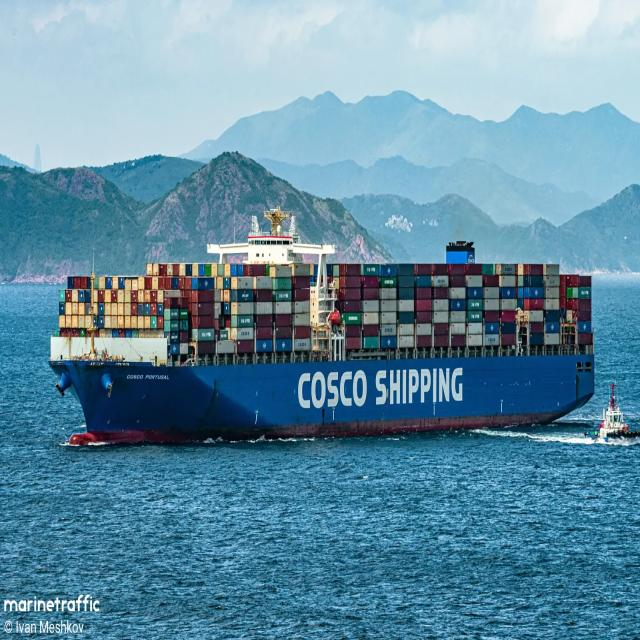Cargo: (50, 206, 594, 444)
Tug: (598, 383, 640, 439)
